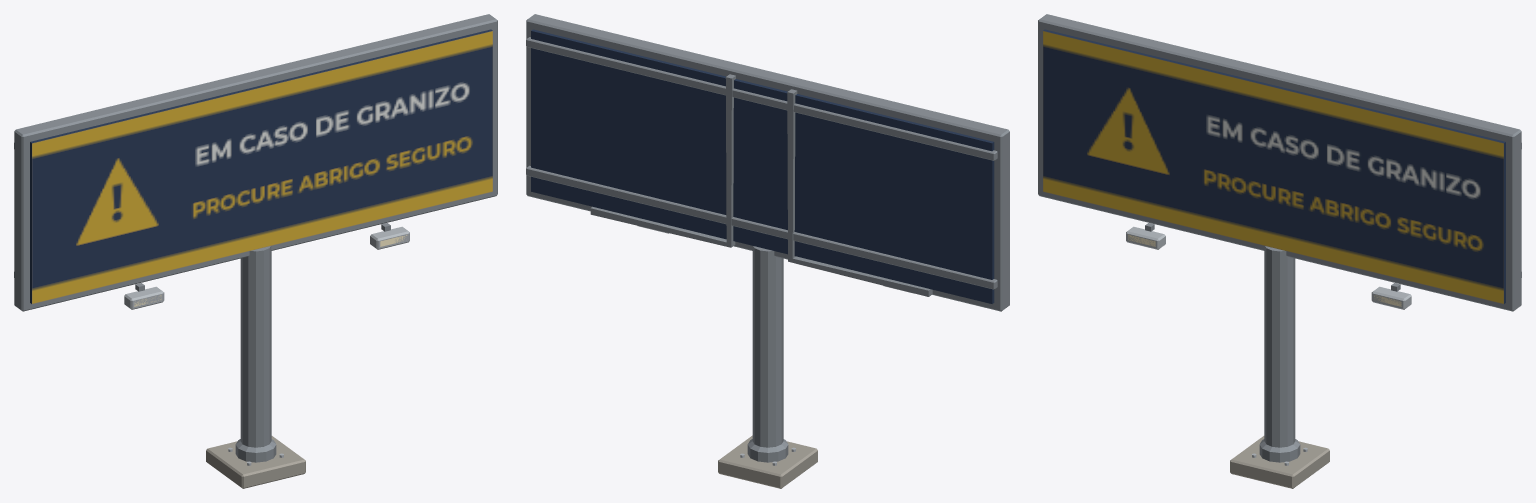
File: Placa.fbx
3 views of the same model, side by side, from view 1: azimuth 30°, elevation 25°; view 2: azimuth 150°, elevation 25°; view 3: azimuth 330°, elevation 25° (orthographic).
Parts seen in each view (by area): view 1: Placa, PostePlaca; view 2: Placa, PostePlaca; view 3: Placa, PostePlaca.
Part boxes in pixels (x1,y1,x2,y2): Placa: (14, 14, 497, 311); PostePlaca: (206, 246, 305, 488); Placa: (526, 14, 1009, 311); PostePlaca: (718, 246, 817, 488); Placa: (1038, 14, 1521, 311); PostePlaca: (1230, 246, 1329, 488).
Bounding box in the file's own units: 6.2 × 4.9 × 0.84.
1 material, 1 textured.
